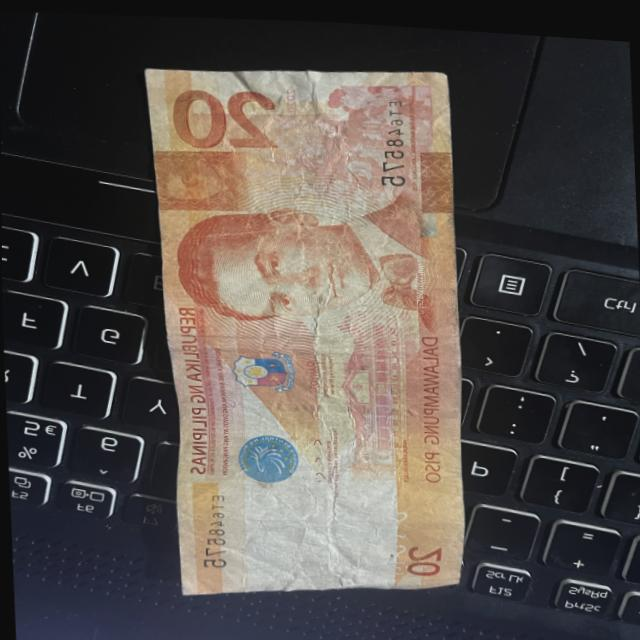concealed_value: (152, 145, 256, 211)
security_thread: (172, 387, 466, 422)
serial_number: (189, 477, 240, 573), (371, 90, 411, 191)
value: (162, 77, 283, 164)
watermark: (251, 468, 395, 571)
